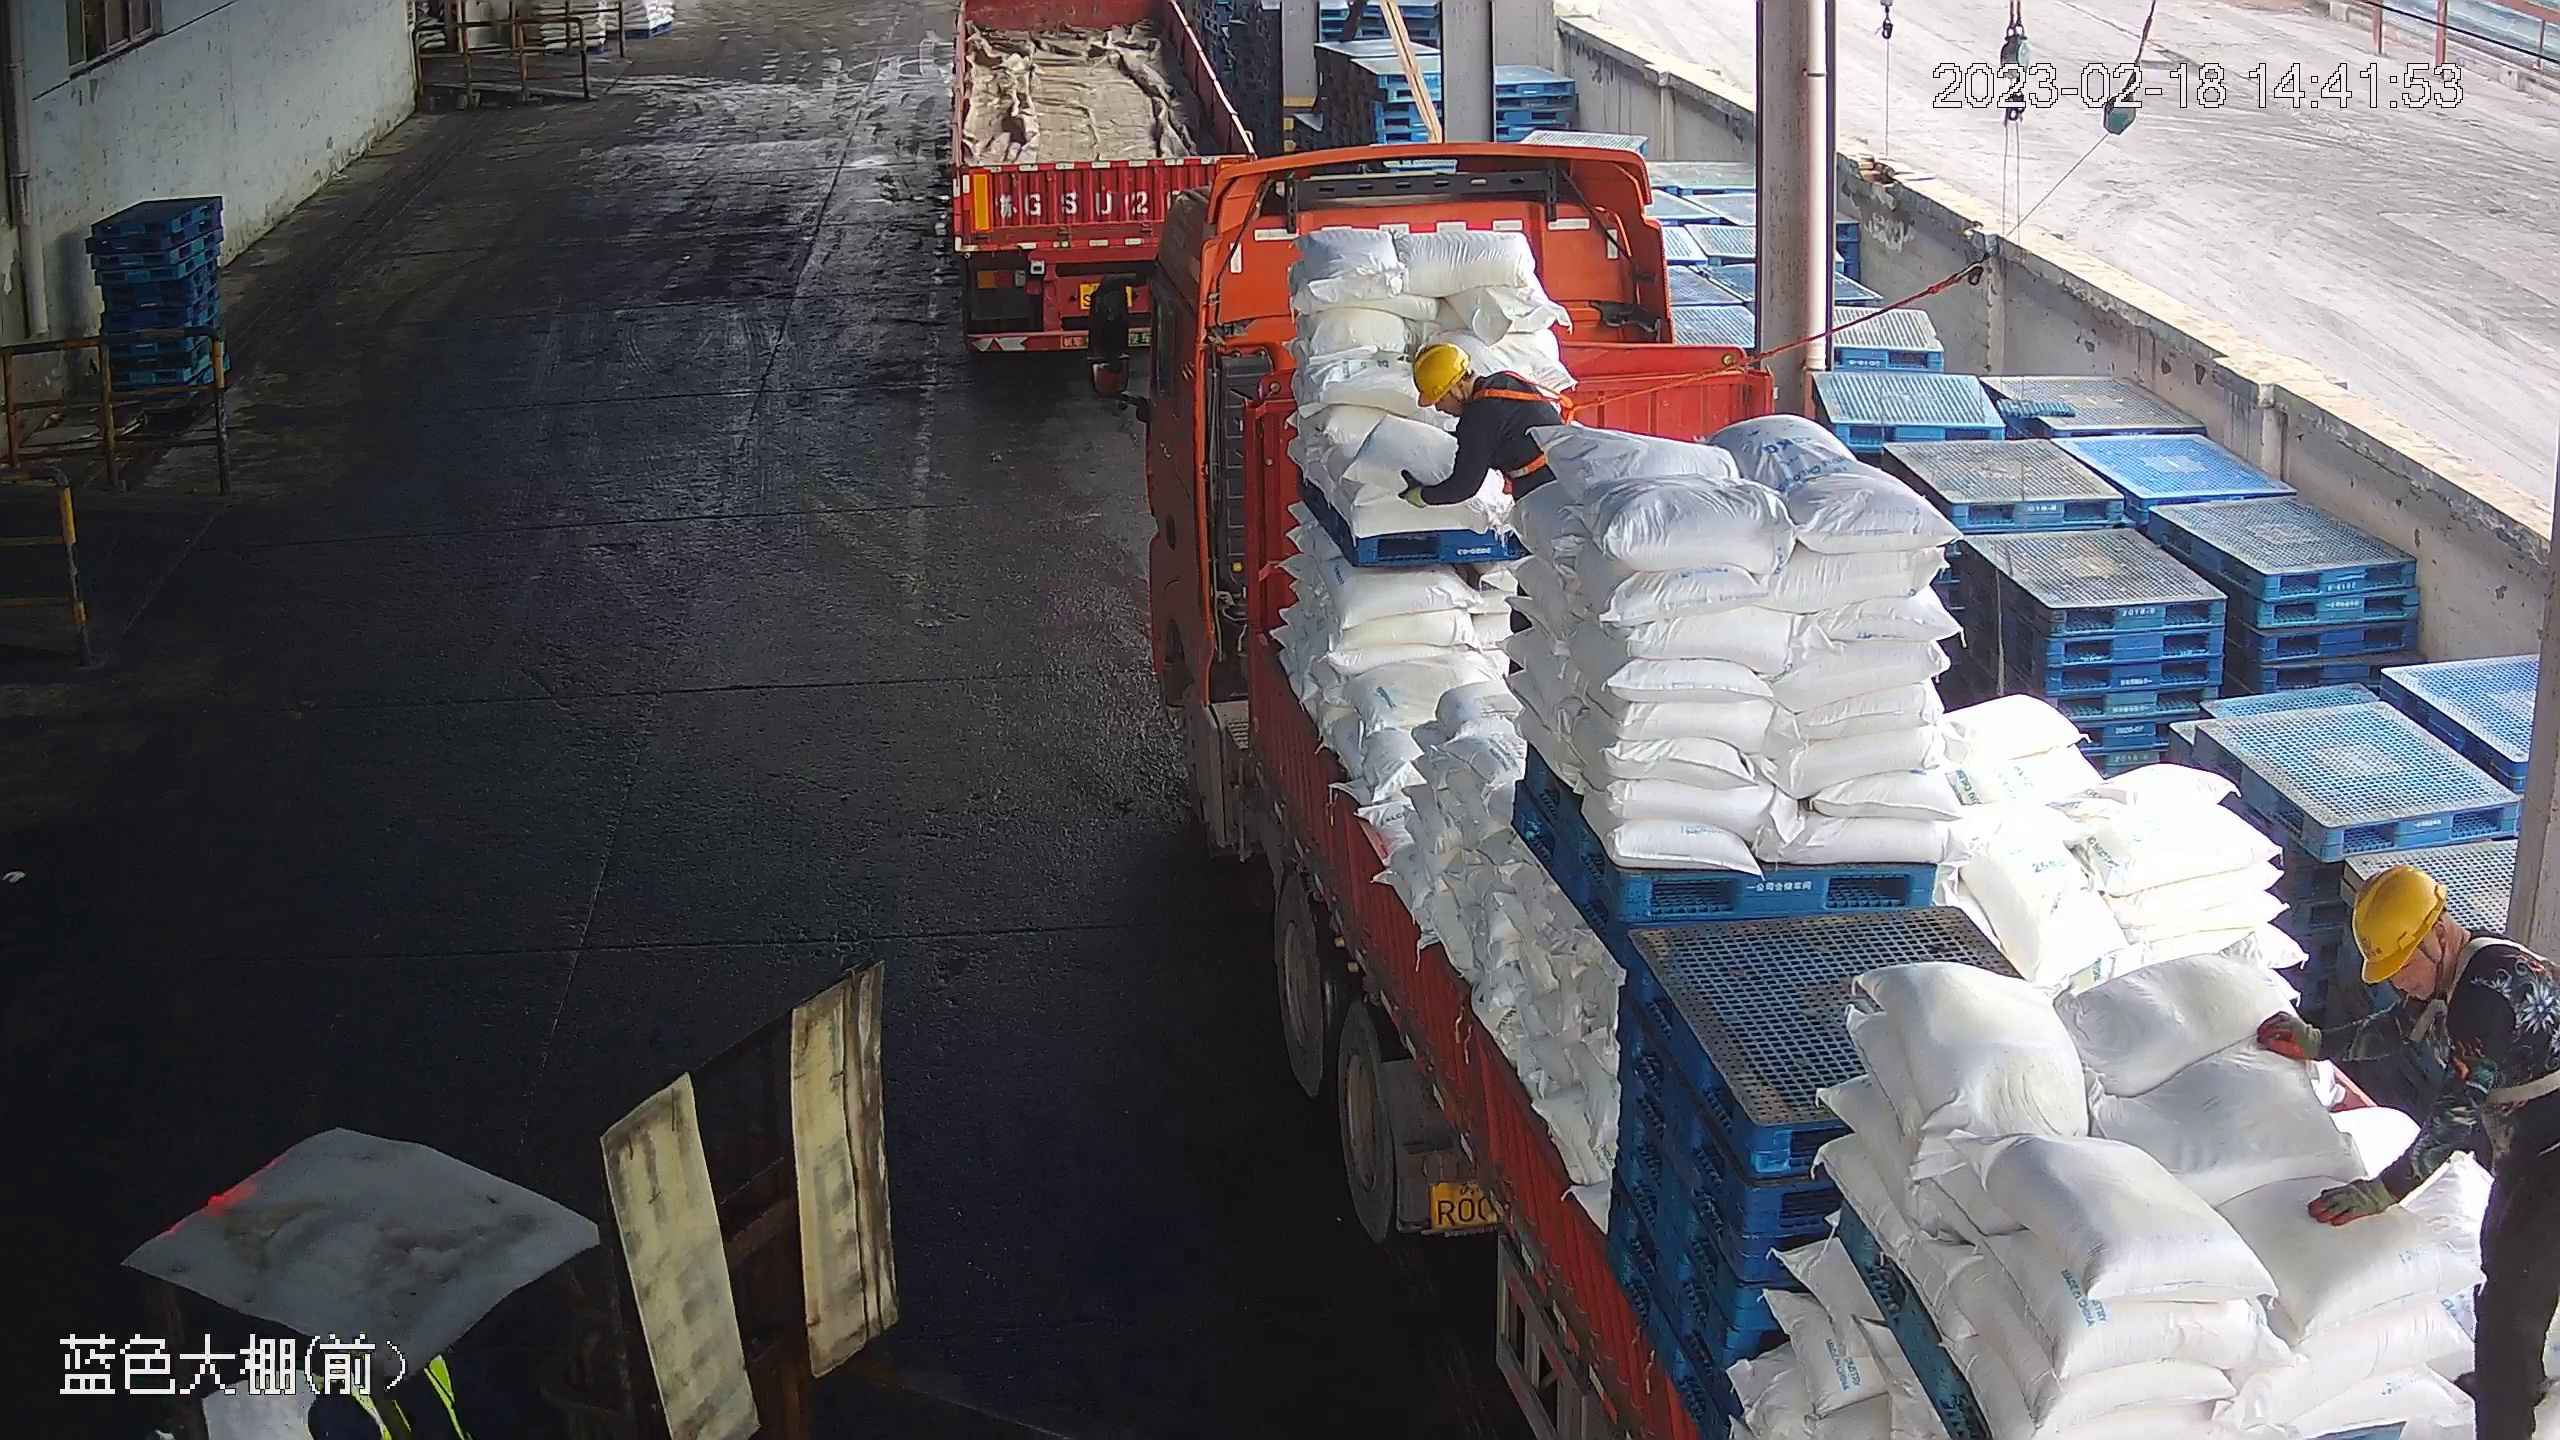belt: (2416, 927, 2560, 1101), (1469, 366, 1572, 473)
head: (2345, 861, 2560, 1063), (1411, 338, 1547, 446)
helmet: (2348, 860, 2455, 987), (1409, 338, 1470, 410)
people: (2252, 856, 2560, 1438), (1401, 337, 1573, 608)
truck: (1088, 139, 2553, 1440), (949, 1, 1263, 354)
